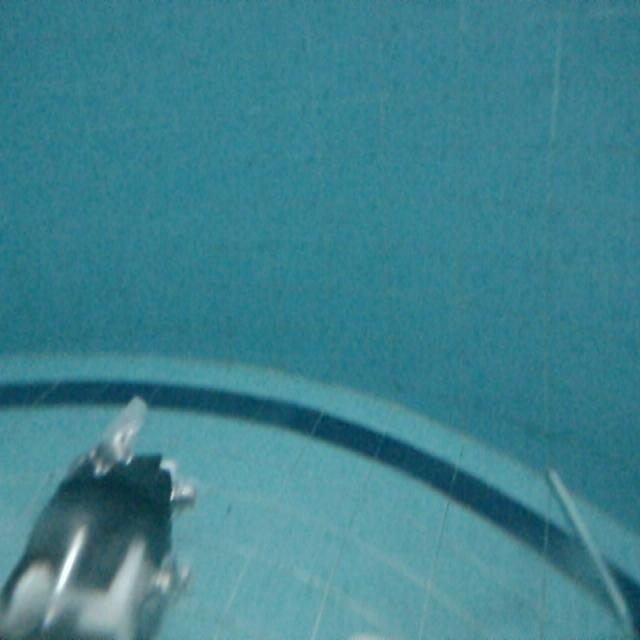Cube: (548, 461, 634, 628)
